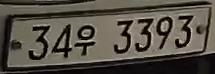3: (25, 21, 51, 62), (110, 17, 134, 54), (134, 17, 153, 55), (175, 14, 194, 49)
4: (51, 23, 73, 59)
9: (155, 12, 174, 52)
우: (74, 23, 97, 58)
